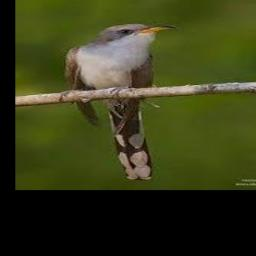Cuckoo: (66, 24, 179, 180)
